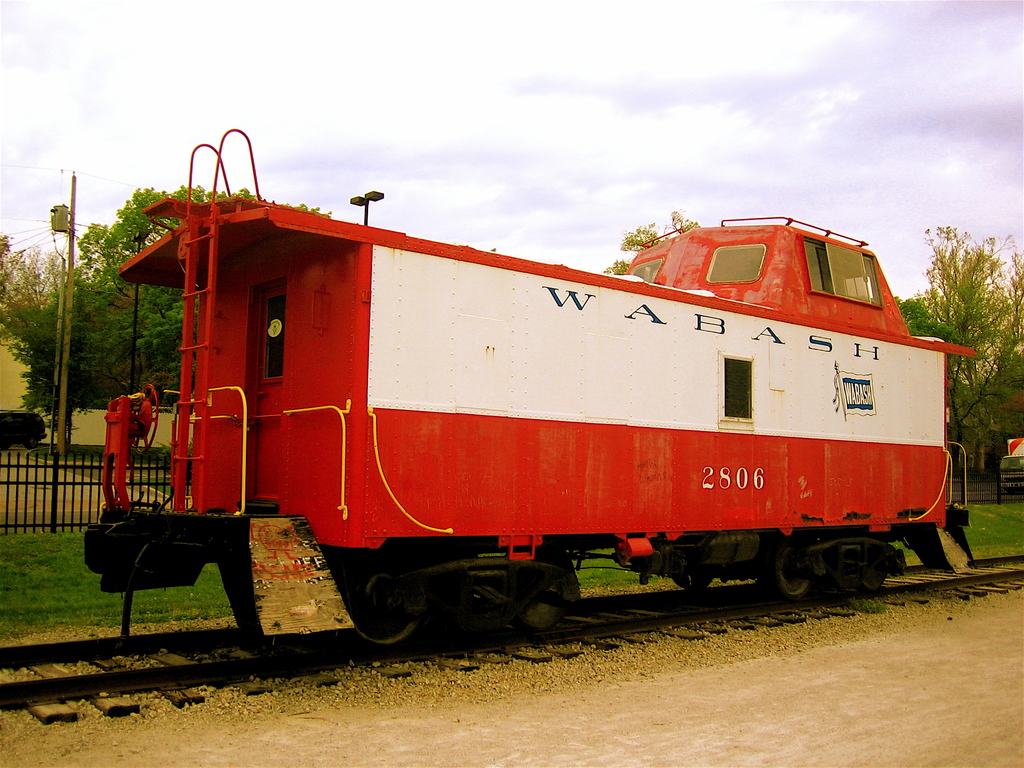Tree: (0, 176, 1024, 482)
